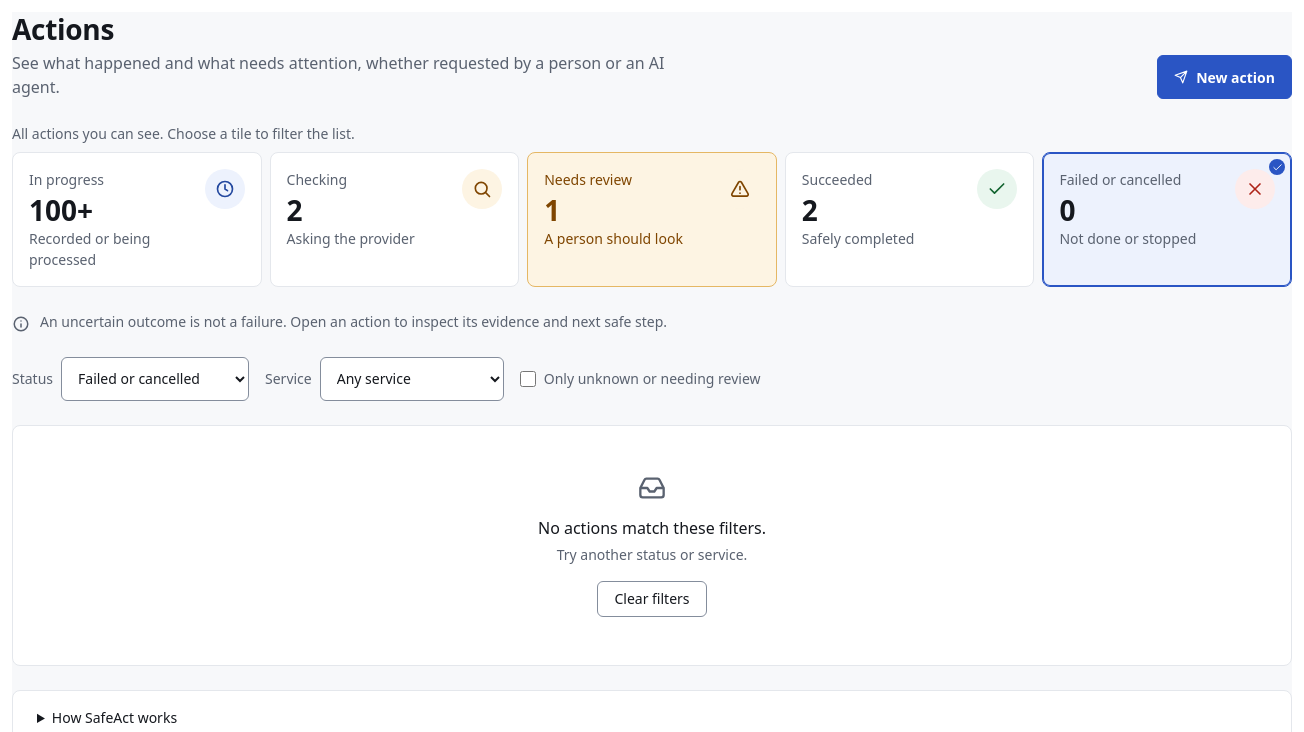
actions list › offers to clear filters when nothing matches
Expected: the text "No actions match these filters." is shown, x1=538 y1=517 x2=766 y2=539
Click the button "Clear filters" at (652, 599), box x1=597 y1=581 x2=706 y2=617
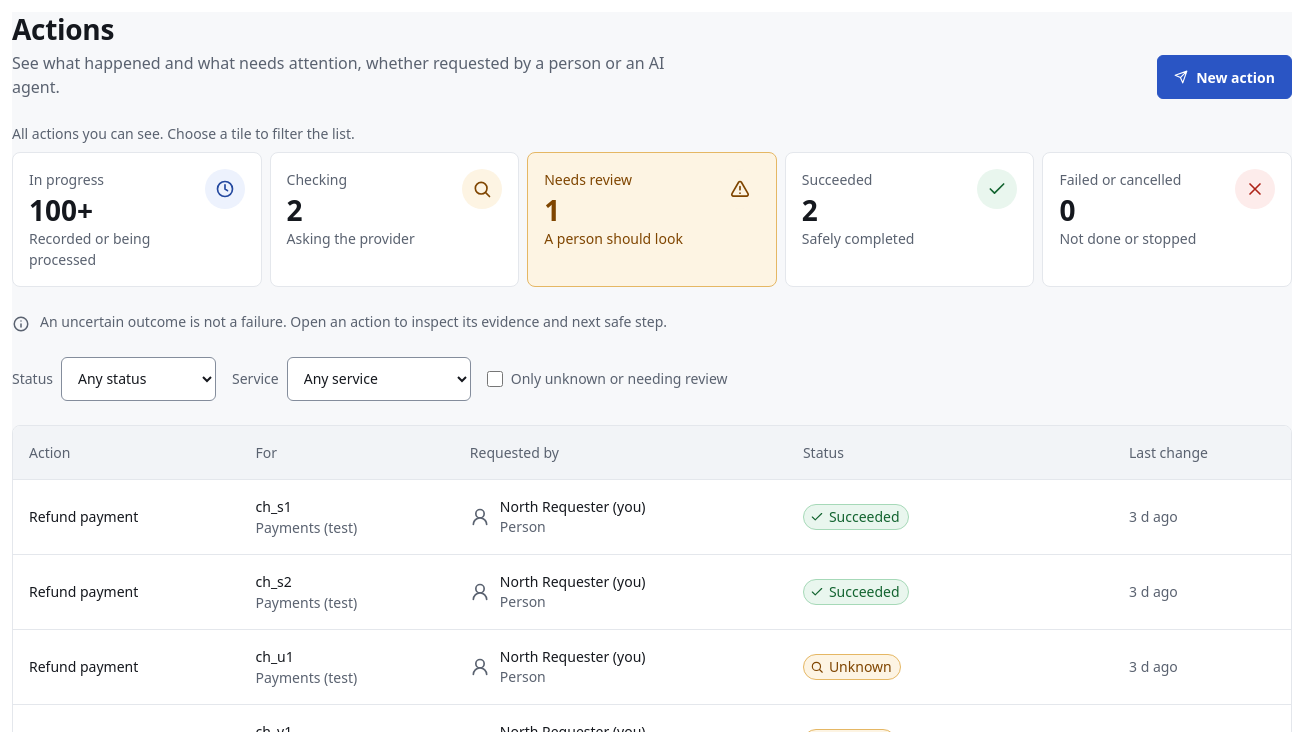
Result: the text "ch_s1" is shown at x1=256 y1=497 x2=292 y2=516
